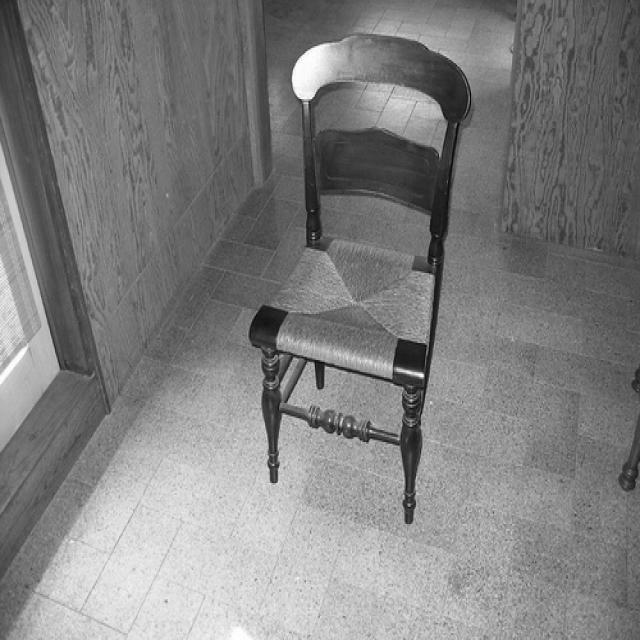chair: (249, 32, 469, 524)
